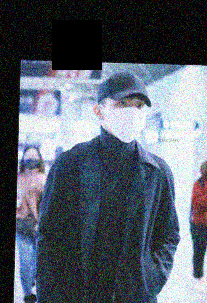with_mask: (104, 96, 146, 143), (22, 149, 40, 169)
